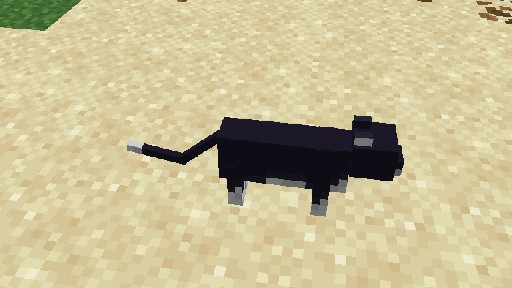cat: (126, 114, 403, 217)
